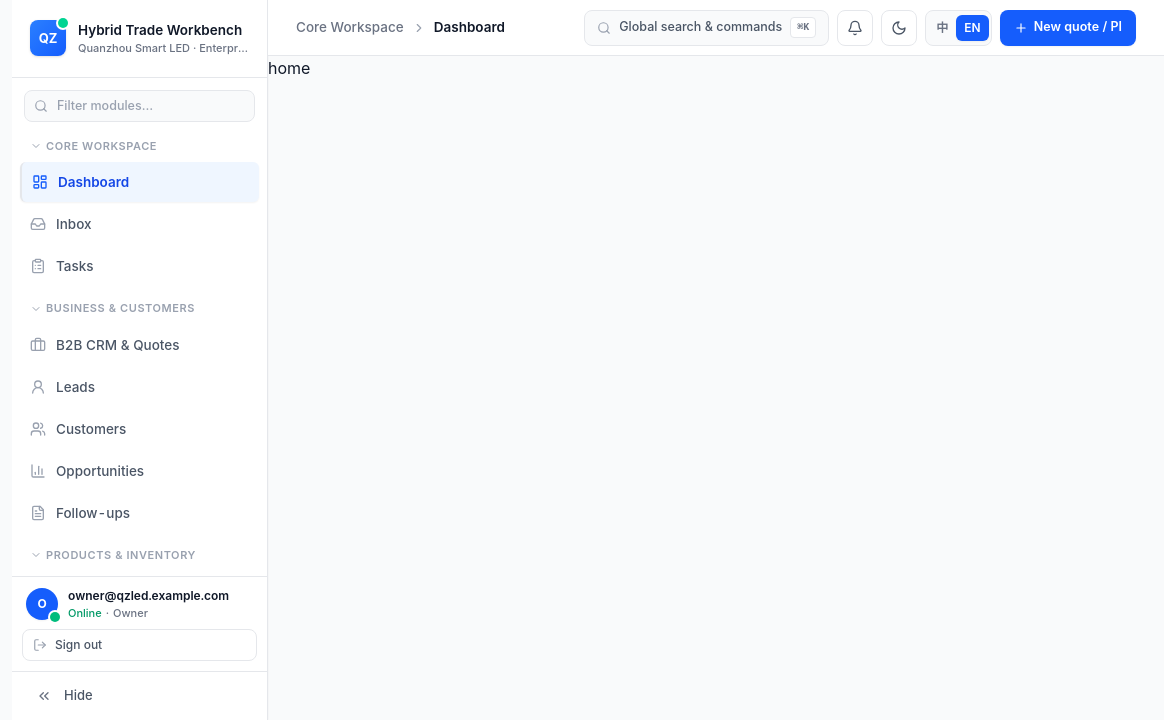
it: AppShell streamlined sidebar and Ctrl+K › filters modules across collapsed groups by Chinese or English text and clears instantly
The image size is (1164, 720).
Expected: the link "Finance & CVP" is not shown
英文界面下输入中文：依然命中，并自动展开所属的折叠分组。
Type "财务" into the search field with test id "sidebar-filter-input".
click(140, 106); type("财务")  # box [24,90,255,122]
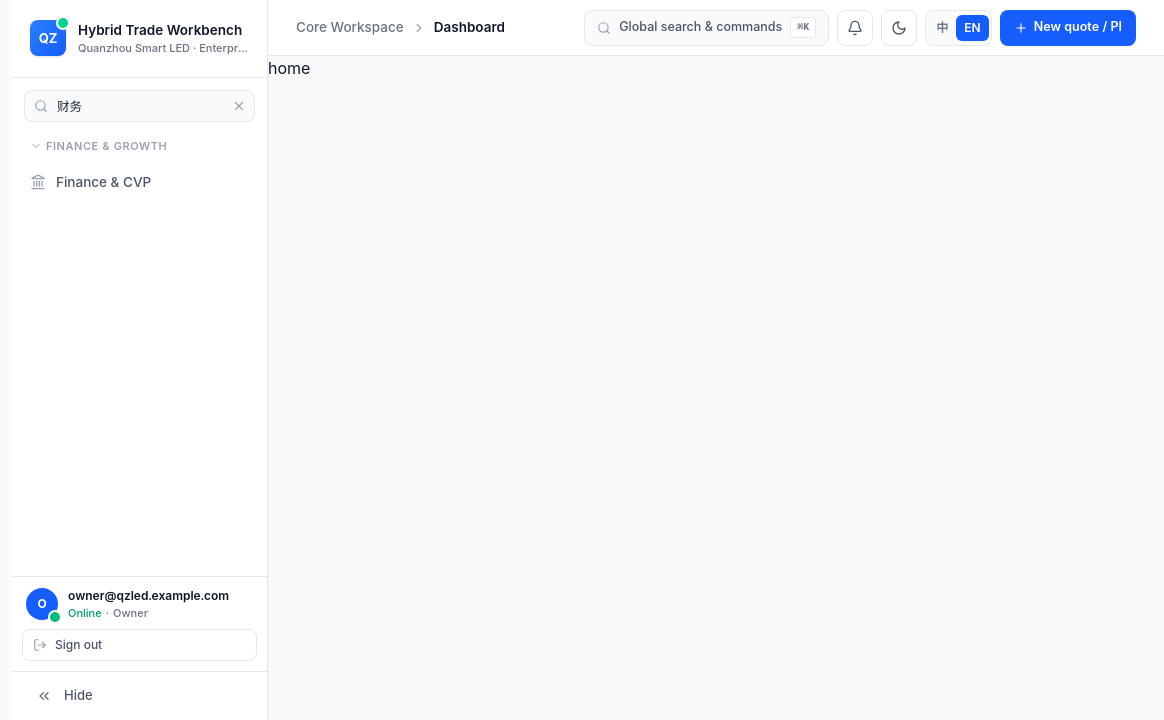
Result: the link "Finance & CVP" is shown at [30,174,151,190]
Result: the link "Inbox" is gone
英文关键词同样命中，且跨折叠分组。
Replace the text in the search field with test id "sidebar-filter-input" with "wms" at (140, 106), box [24,90,255,122]
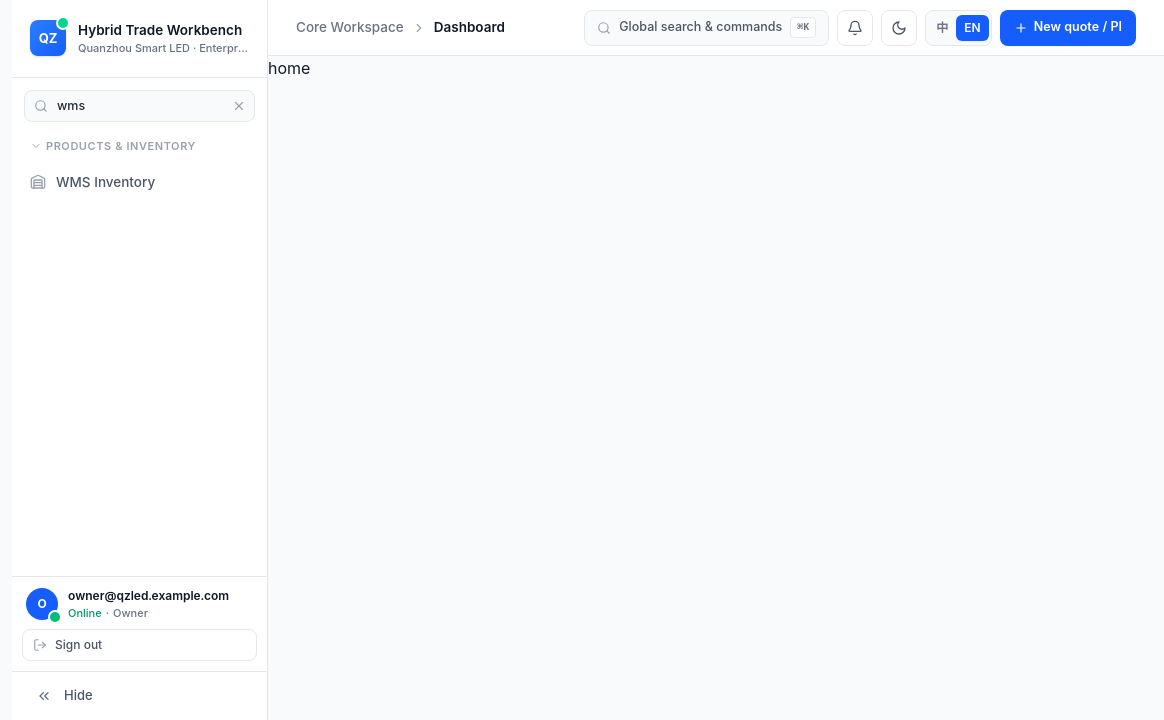
Result: the link "WMS Inventory" is shown at [30,174,155,190]
Replace the text in the search field with test id "sidebar-filter-input" with "zzz-nothing" at (140, 106), box [24,90,255,122]
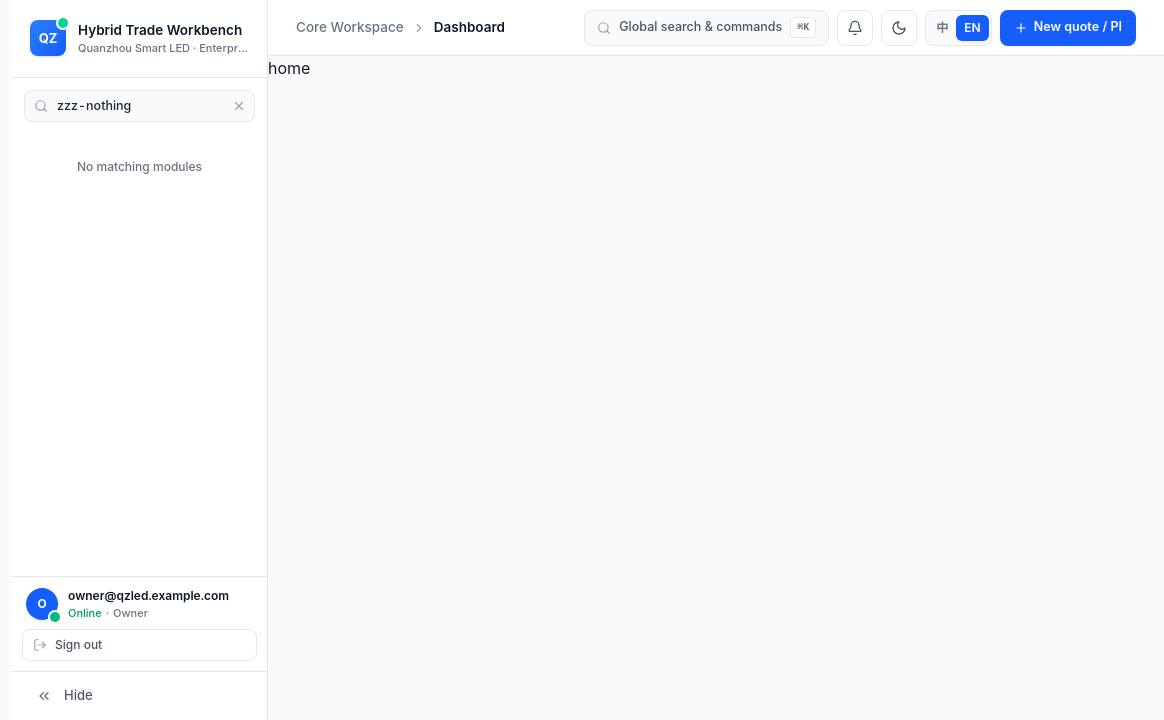
Result: the text "No matching modules" is shown at [77,159,202,174]
Click the button with test id "sidebar-filter-clear".
click(239, 106)  # box [229,96,249,116]
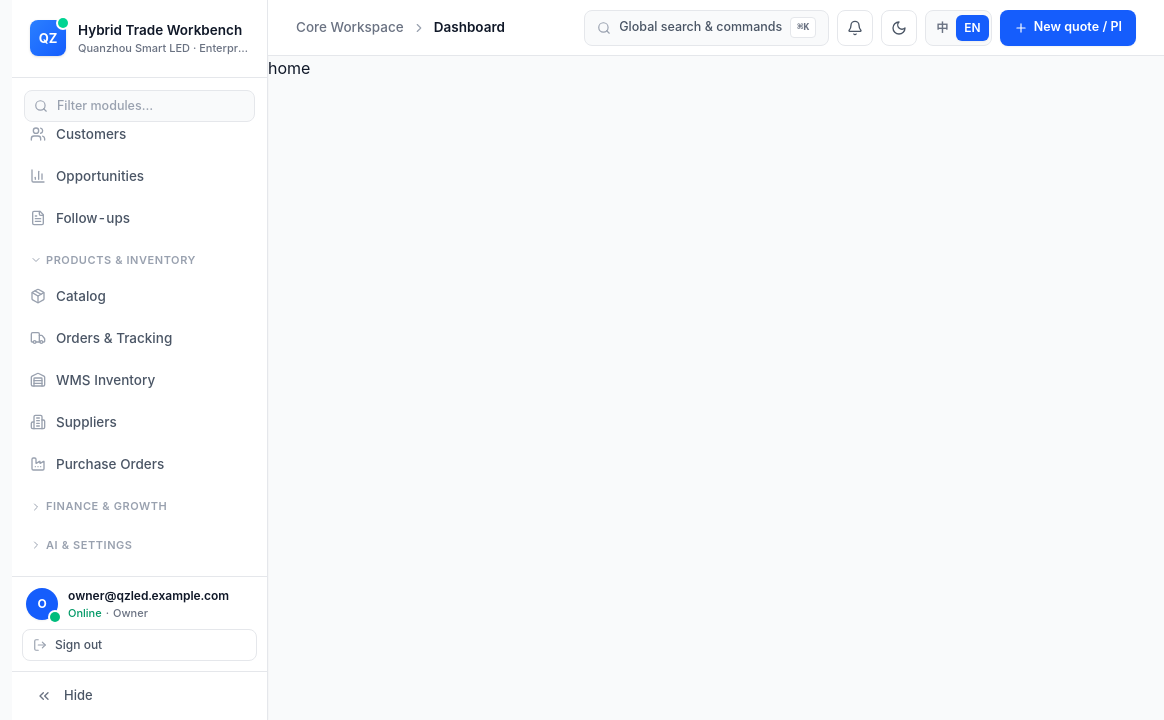
Result: the button with test id "nav-section-toggle-growth_finance" is collapsed at [20,494,259,519]
Result: the search field with test id "sidebar-filter-input" is empty at [24,90,255,122]
